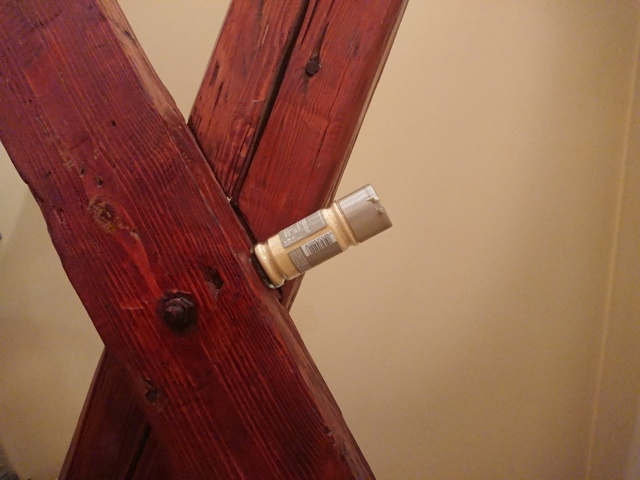Kotanyi Garlic Granules 70g: (246, 182, 395, 292)
